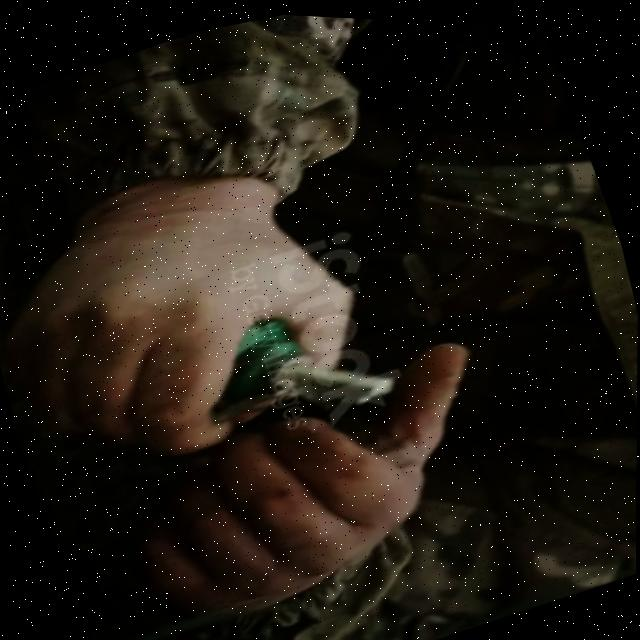grenade: (194, 287, 412, 459)
